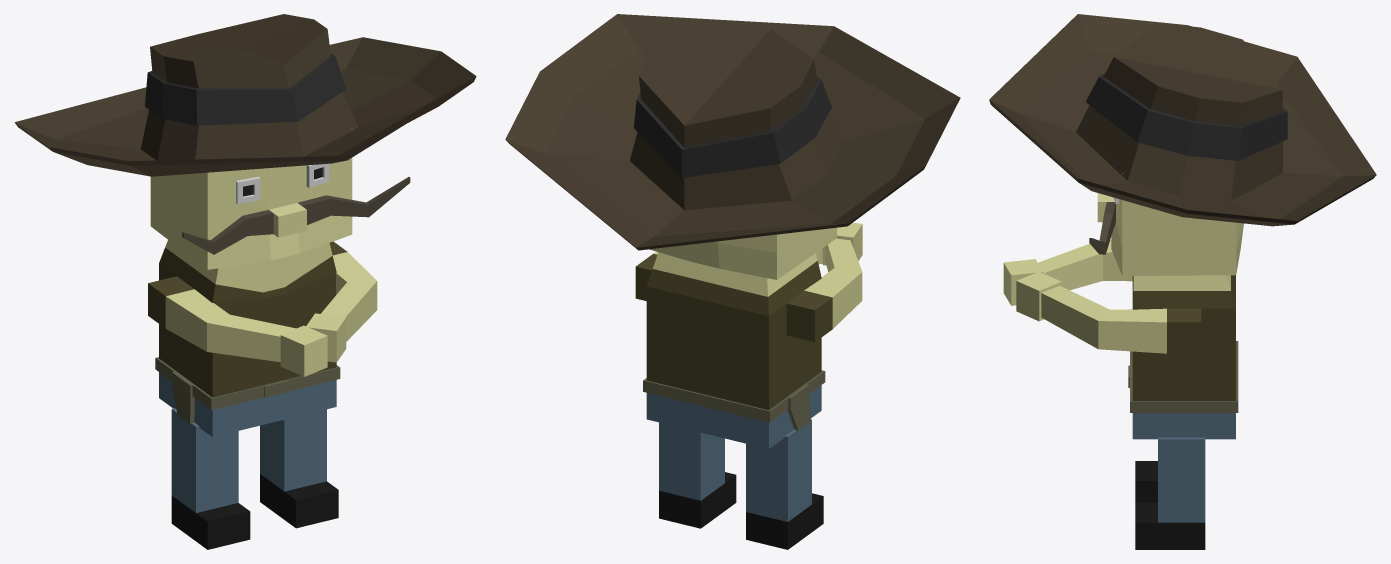
Rendered from Player.fbx.
The picture shows the model from 3 angles, left to right: view 1: azimuth 30°, elevation 25°; view 2: azimuth 150°, elevation 25°; view 3: azimuth 270°, elevation 25°; orthographic projection. The views are drawn at different scales.
Visible parts, largest first — view 1: Cube, Circle, Cube.001, Cube.002; view 2: Circle, Cube, Cube.001, Cube.002; view 3: Circle, Cube, Cube.002, Cube.001.
Boxes of the visible parts, bbox=[...] form: Cube: bbox=[148, 128, 410, 437]; Circle: bbox=[14, 14, 476, 176]; Cube.001: bbox=[171, 408, 250, 549]; Cube.002: bbox=[260, 409, 338, 528]; Circle: bbox=[505, 14, 960, 250]; Cube: bbox=[635, 222, 862, 448]; Cube.001: bbox=[746, 419, 823, 549]; Cube.002: bbox=[659, 422, 736, 528]; Circle: bbox=[989, 14, 1376, 226]; Cube: bbox=[1003, 173, 1243, 439]; Cube.002: bbox=[1135, 437, 1205, 549]; Cube.001: bbox=[1135, 461, 1157, 502].
Bounding box in the file's own units: 507 × 594 × 450.
